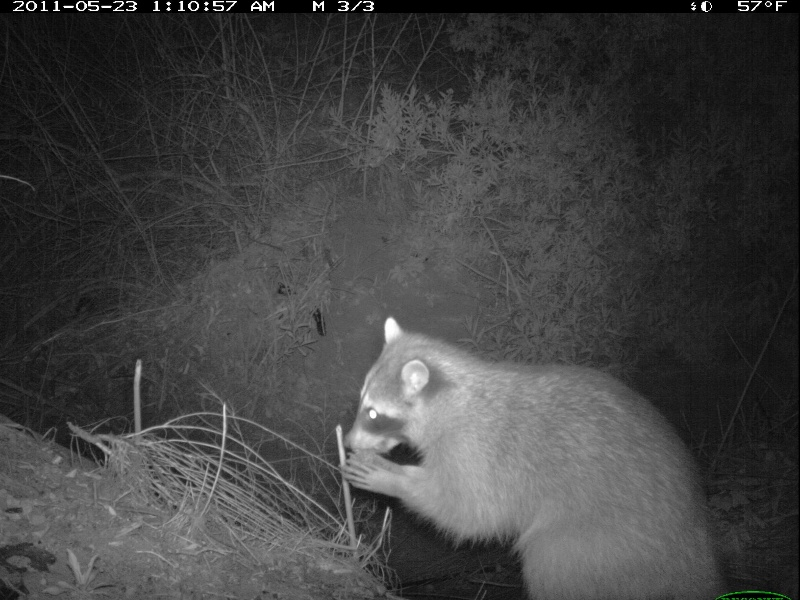raccoon: (332, 312, 722, 597)
